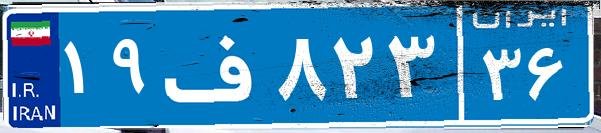1: (57, 26, 110, 107)
2: (330, 28, 385, 110)
3: (385, 28, 445, 110), (475, 38, 525, 113)
6: (525, 38, 570, 115)
8: (273, 28, 330, 110)
9: (110, 28, 158, 105)
ف: (158, 15, 273, 115)
